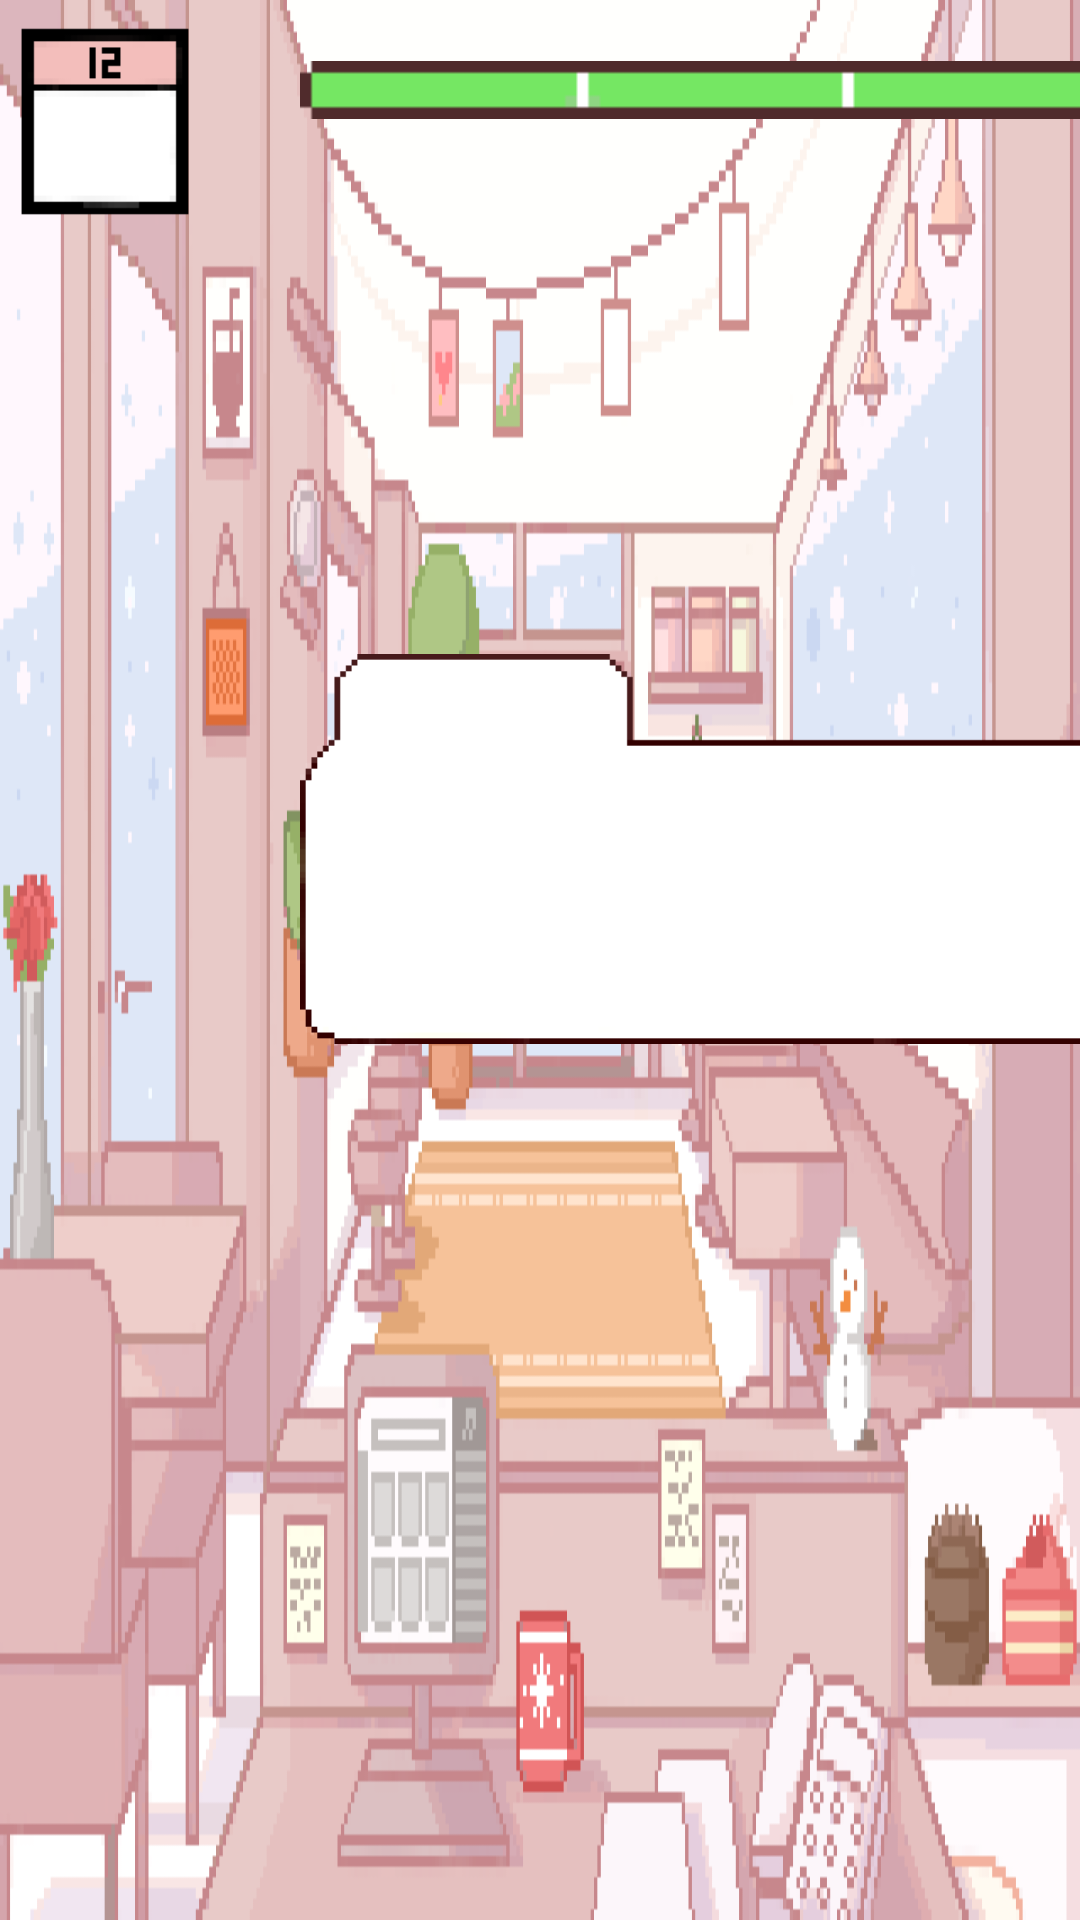

Screen size 1080px x 1920px. Icon name, then its box in pixels as {"x1": x1, "y1": y1, "x2": x2, "y2": y2}:
calendar: {"x1": 0, "y1": 15, "x2": 189, "y2": 225}
